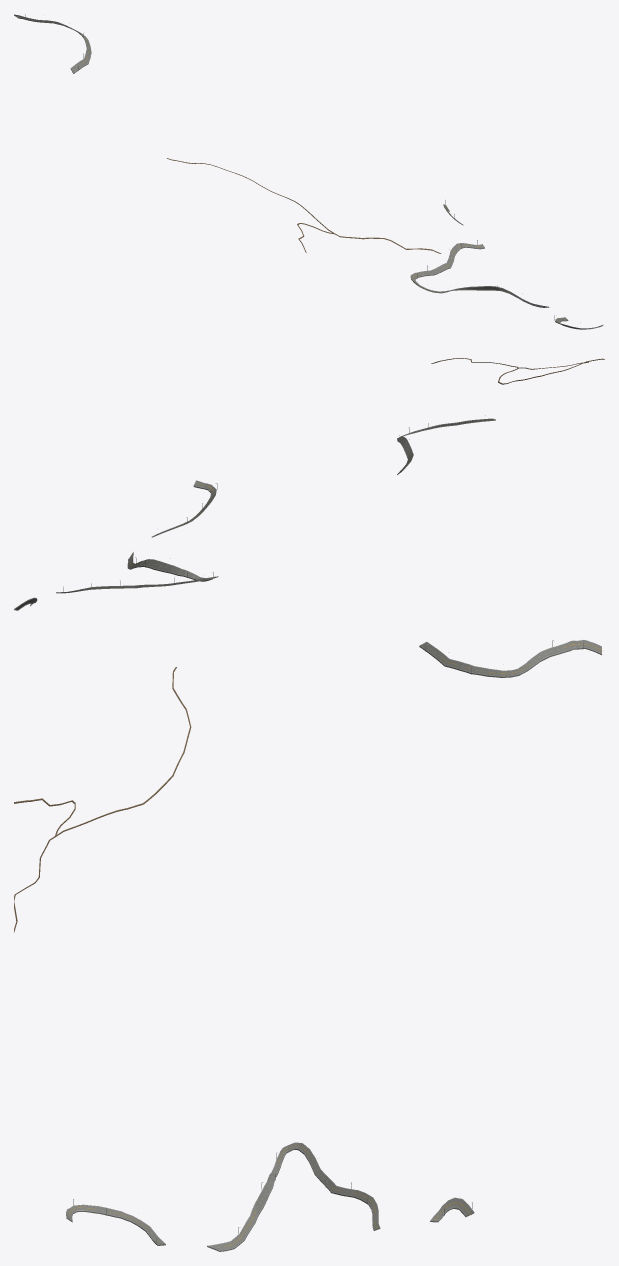
The picture shows the model from 3 angles, top to bottom: view 1: azimuth 30°, elevation 25°; view 2: azimuth 150°, elevation 25°; view 3: azimuth 270°, elevation 25°; orthographic projection. The views are drawn at different scales.
Bounding box in the file's own units: 592 × 412 × 586.
